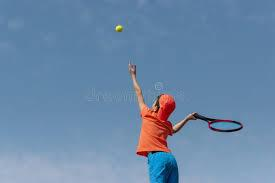ball_tennis: (116, 25, 123, 33)
